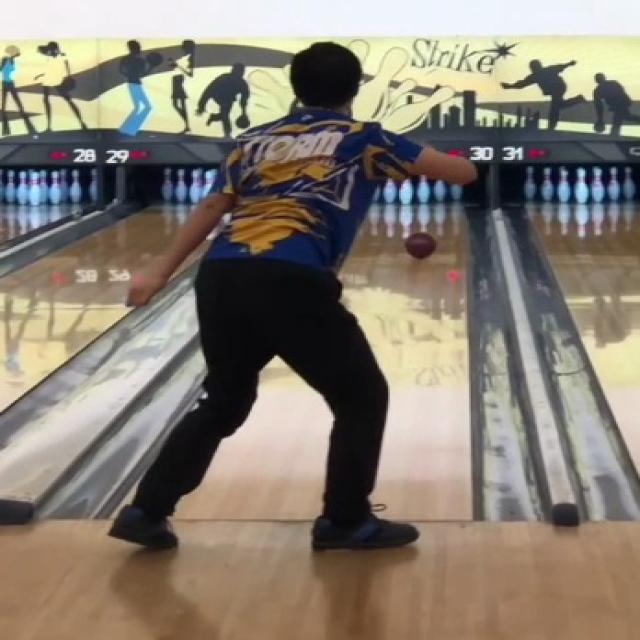alley: (338, 204, 467, 521), (175, 361, 329, 519)
balls: (406, 234, 436, 258)
bottle: (375, 178, 460, 204)
